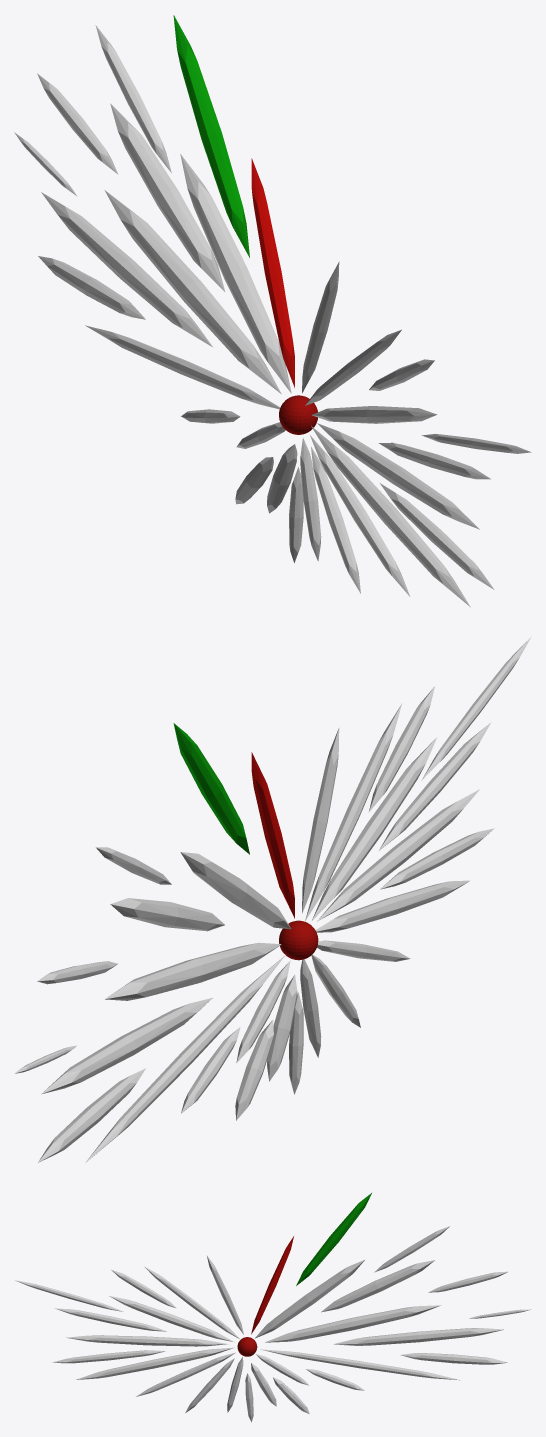
The model's file is Spark.obj.
3 views of the same model, one above another, from view 1: azimuth 30°, elevation 25°; view 2: azimuth 150°, elevation 25°; view 3: azimuth 270°, elevation 25° (orthographic). The views are drawn at different scales.
Parts seen in each view (by area): view 1: 立方体.008, 立方体.004, 立方体.006, 立方体, 立方体.003, 立方体.021, 立方体.002, 立方体.014, 立方体.011, 立方体.019, 立方体.005, 立方体.007 (+15 smaller); view 2: 立方体.008, 立方体.003, 立方体.011, 立方体.020, 立方体.014, 立方体.026, 立方体, 立方体.004, 立方体.021, 立方体.006, 立方体.002, 立方体.023 (+17 smaller); view 3: 立方体.008, 立方体.003, 立方体.004, 立方体.006, 立方体.011, 立方体.014, 立方体.021, 立方体, 立方体.020, 立方体.007, 立方体.026, 立方体.028 (+17 smaller).
Boxes of the visible parts, x1=… form: 立方体.008: x1=104, y1=190, x2=281, y2=394; 立方体.004: x1=180, y1=154, x2=291, y2=393; 立方体.006: x1=110, y1=103, x2=225, y2=291; 立方体: x1=173, y1=15, x2=249, y2=257; 立方体.003: x1=41, y1=192, x2=212, y2=346; 立方体.021: x1=311, y1=426, x2=470, y2=607; 立方体.002: x1=251, y1=158, x2=294, y2=387; 立方体.014: x1=317, y1=423, x2=479, y2=529; 立方体.011: x1=85, y1=325, x2=280, y2=409; 立方体.019: x1=310, y1=435, x2=410, y2=596; 立方体.005: x1=95, y1=25, x2=171, y2=173; 立方体.007: x1=38, y1=256, x2=145, y2=319; 立方体.008: x1=105, y1=942, x2=281, y2=1000; 立方体.003: x1=41, y1=998, x2=212, y2=1094; 立方体.011: x1=85, y1=955, x2=285, y2=1162; 立方体.020: x1=311, y1=737, x2=437, y2=921; 立方体.014: x1=317, y1=789, x2=479, y2=921; 立方体.026: x1=305, y1=704, x2=401, y2=921; 立方体: x1=173, y1=723, x2=249, y2=854; 立方体.004: x1=180, y1=852, x2=291, y2=929; 立方体.021: x1=315, y1=880, x2=470, y2=932; 立方体.006: x1=110, y1=898, x2=224, y2=931; 立方体.002: x1=251, y1=752, x2=294, y2=918; 立方体.023: x1=302, y1=727, x2=339, y2=913; 立方体.008: x1=265, y1=1305, x2=440, y2=1342; 立方体.003: x1=333, y1=1328, x2=503, y2=1345; 立方体.004: x1=255, y1=1259, x2=365, y2=1338; 立方体.006: x1=321, y1=1260, x2=434, y2=1312; 立方体.011: x1=260, y1=1349, x2=460, y2=1380; 立方体.014: x1=66, y1=1335, x2=228, y2=1346; 立方体.021: x1=76, y1=1347, x2=234, y2=1379; 立方体: x1=296, y1=1193, x2=371, y2=1285; 立方体.020: x1=109, y1=1296, x2=234, y2=1342; 立方体.007: x1=400, y1=1353, x2=507, y2=1364; 立方体.026: x1=144, y1=1266, x2=240, y2=1339; 立方体.028: x1=55, y1=1308, x2=166, y2=1331.
Bounding box in the file's own units: 0.18 × 2.31 × 4.71.
